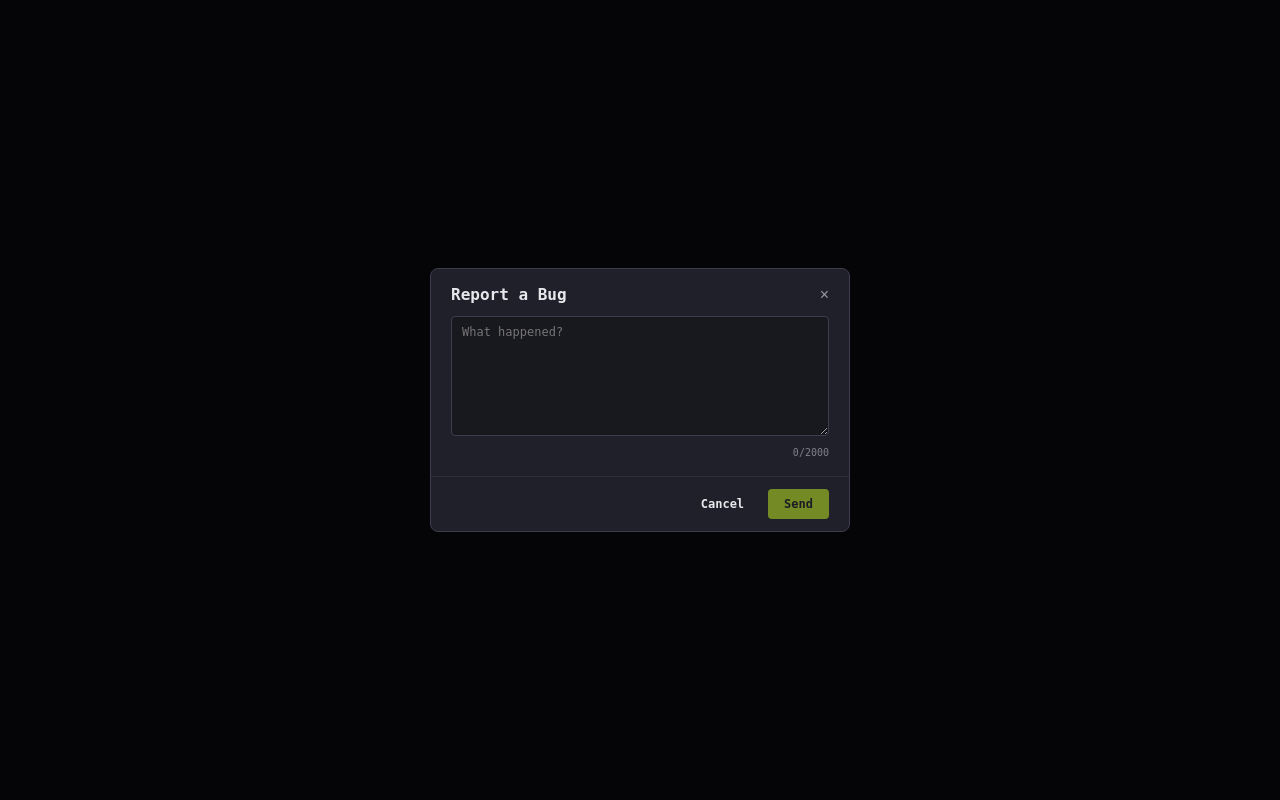
Test: FeedbackDialog › shows character count
Expected: the text with class "feedback-dialog__char-count" reads "0/2000", [793, 447, 829, 458]
Type "Hello" into the text box with class "feedback-dialog__textarea" at (640, 376), box [451, 316, 829, 436]
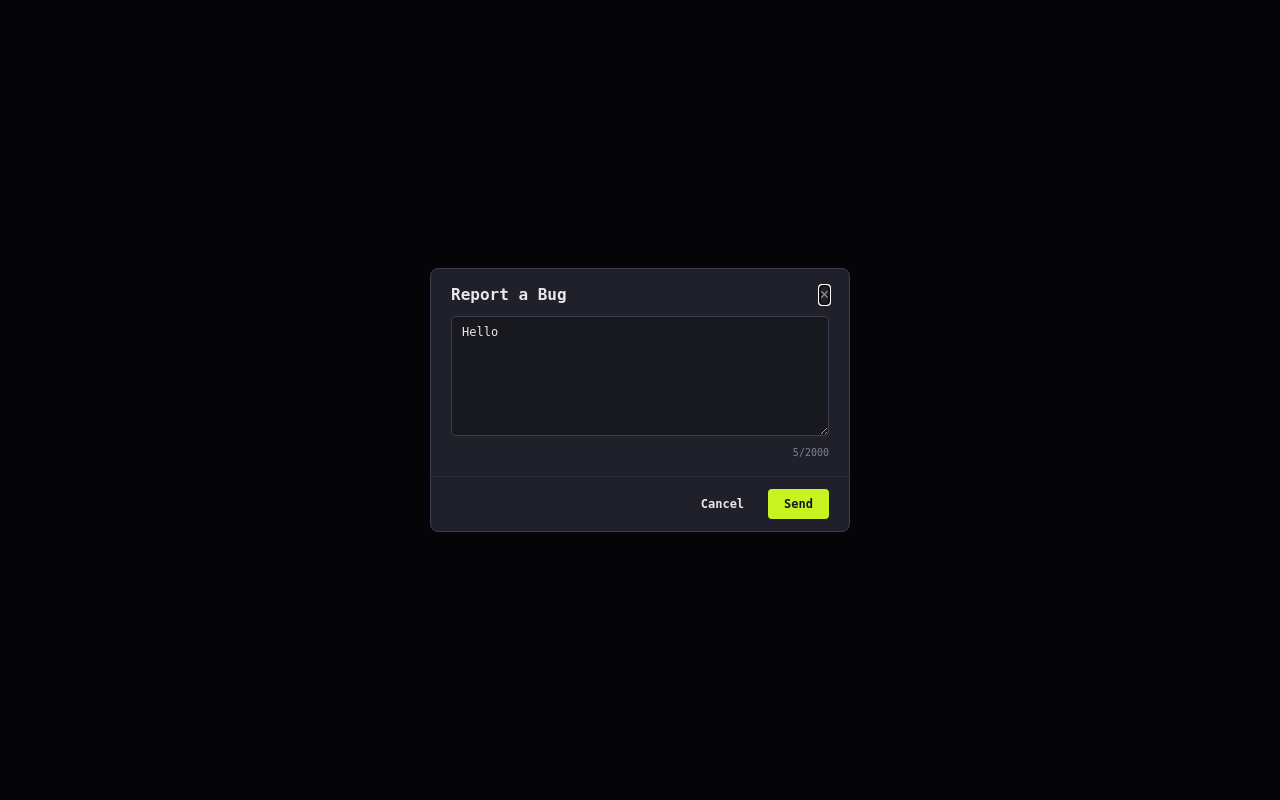
Expected: the text with class "feedback-dialog__char-count" reads "5/2000", [793, 447, 829, 458]
